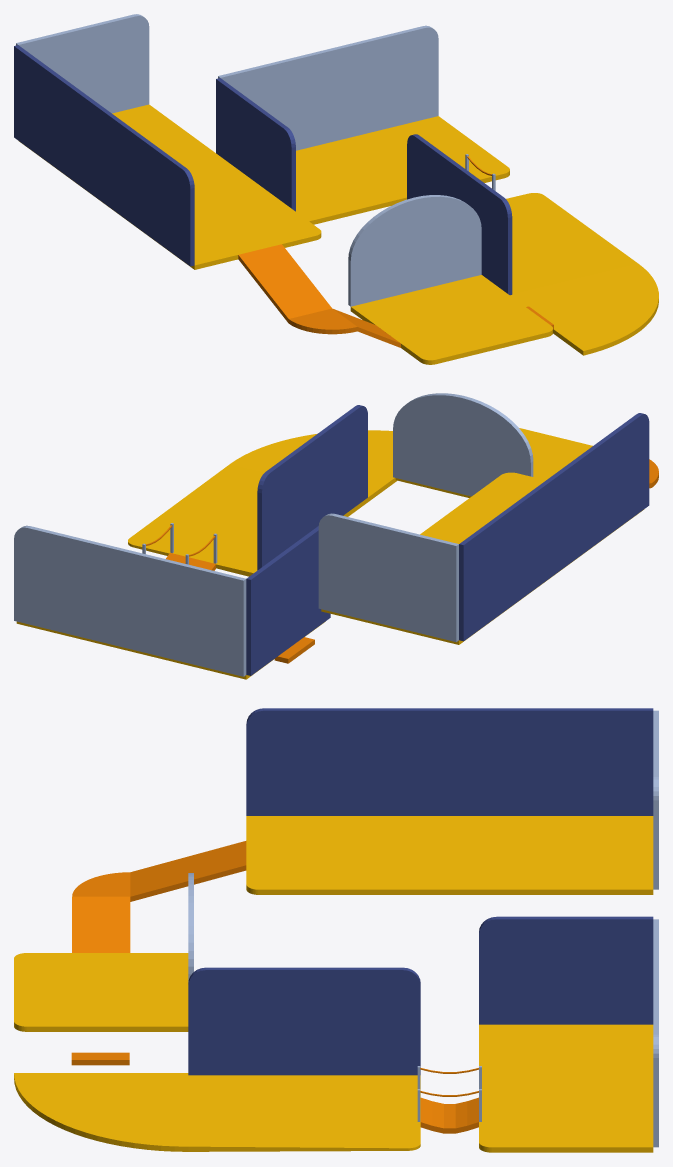
File: stanze-vuote.min.glb
The picture shows the model from 3 angles, top to bottom: view 1: azimuth 30°, elevation 25°; view 2: azimuth 150°, elevation 25°; view 3: azimuth 270°, elevation 25°; orthographic projection. The views are drawn at different scales.
Visible parts, largest first — view 1: muro_galleria1, muro, pavimento_skill, pavimento_galleria, muro_home, pavimento_scuola, pvaimento_home, muro_galleria2, muro_skill, muro_porta, scivolo; view 2: muro, muro_galleria1, muro_galleria2, pavimento_skill, muro_home, muro_skill, muro_porta, pavimento_galleria, pvaimento_home, pavimento_scuola, scale2; view 3: muro_galleria1, pavimento_galleria, pavimento_skill, muro_skill, pavimento_scuola, muro_porta, pvaimento_home, scivolo, ponte, muro, muro_galleria2, scale1.
Part boxes in pixels (x1,y1,x2,y2): muro_galleria1: (14, 45, 194, 266); muro: (218, 25, 438, 150); pavimento_skill: (506, 193, 658, 355); pavimento_galleria: (19, 104, 321, 269); muro_home: (348, 195, 481, 306); pavimento_scuola: (296, 116, 509, 224); pvaimento_home: (350, 275, 552, 364); muro_galleria2: (16, 14, 149, 113); muro_skill: (407, 134, 512, 295); muro_porta: (216, 78, 295, 211); scivolo: (238, 244, 400, 347); muro: (14, 525, 246, 676); muro_galleria1: (459, 413, 649, 641); muro_galleria2: (318, 513, 458, 641); pavimento_skill: (128, 430, 396, 576); muro_home: (393, 393, 533, 496); muro_skill: (257, 405, 367, 570); muro_porta: (246, 526, 330, 675); pavimento_galleria: (321, 472, 644, 644); pvaimento_home: (395, 428, 592, 497); pavimento_scuola: (16, 621, 325, 679); scale2: (274, 637, 314, 663); muro_galleria1: (246, 708, 653, 815); pavimento_galleria: (246, 816, 653, 894); pavimento_skill: (14, 1073, 420, 1151); muro_skill: (188, 967, 420, 1075); pavimento_scuola: (479, 1024, 653, 1152); muro_porta: (479, 916, 653, 1024); pvaimento_home: (14, 953, 188, 1031); scivolo: (72, 841, 246, 952); ponte: (420, 1097, 478, 1133); muro: (653, 919, 658, 1147); muro_galleria2: (653, 710, 658, 889); scale1: (71, 1052, 129, 1065).
Bounding box in the file's own units: 9.73 × 4.02 × 11.1.
